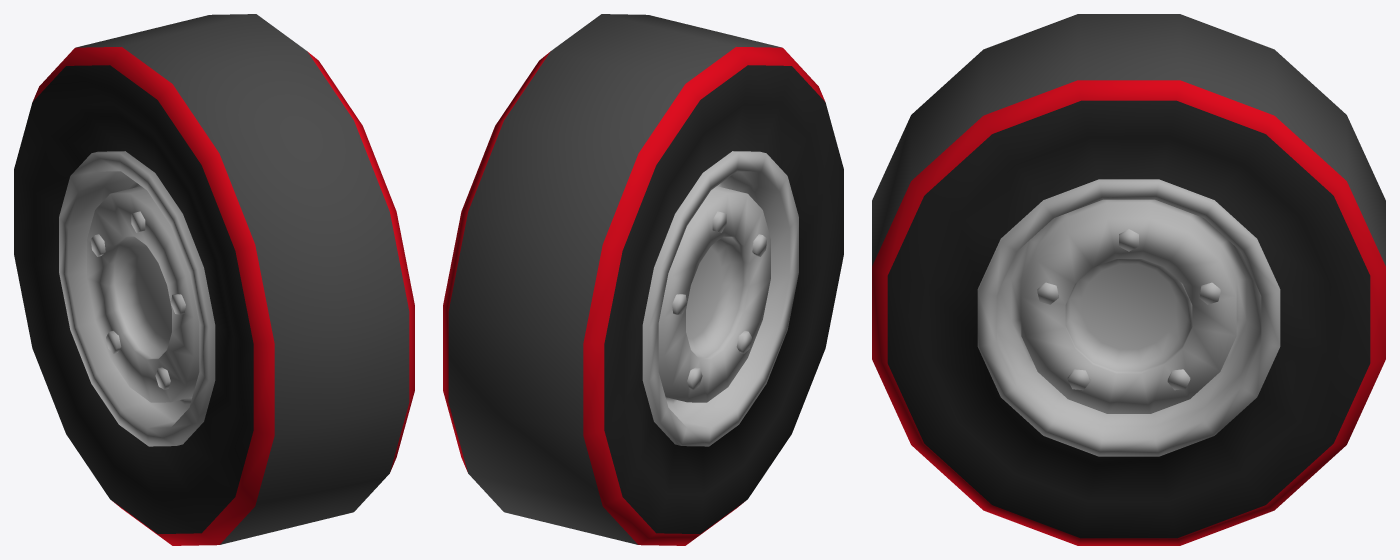
Rendered from Forklift_FrontWheel_01.fbx.
3 views of the same model, side by side, from view 1: azimuth 30°, elevation 25°; view 2: azimuth 150°, elevation 25°; view 3: azimuth 270°, elevation 25° (orthographic).
Parts seen in each view (by area): view 1: ForkliftFrontWheels_low; view 2: ForkliftFrontWheels_low; view 3: ForkliftFrontWheels_low.
Part boxes in pixels (x1,y1,x2,y2): ForkliftFrontWheels_low: (14,14,414,545); ForkliftFrontWheels_low: (443,14,843,545); ForkliftFrontWheels_low: (872,14,1385,545).
Bounding box in the file's own units: 0.2461 × 0.6739 × 0.6739.
